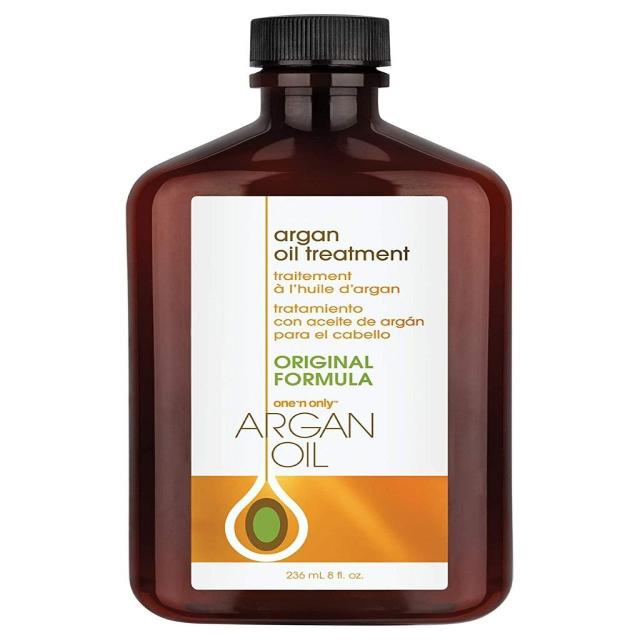food-supliment: (146, 168, 496, 612)
